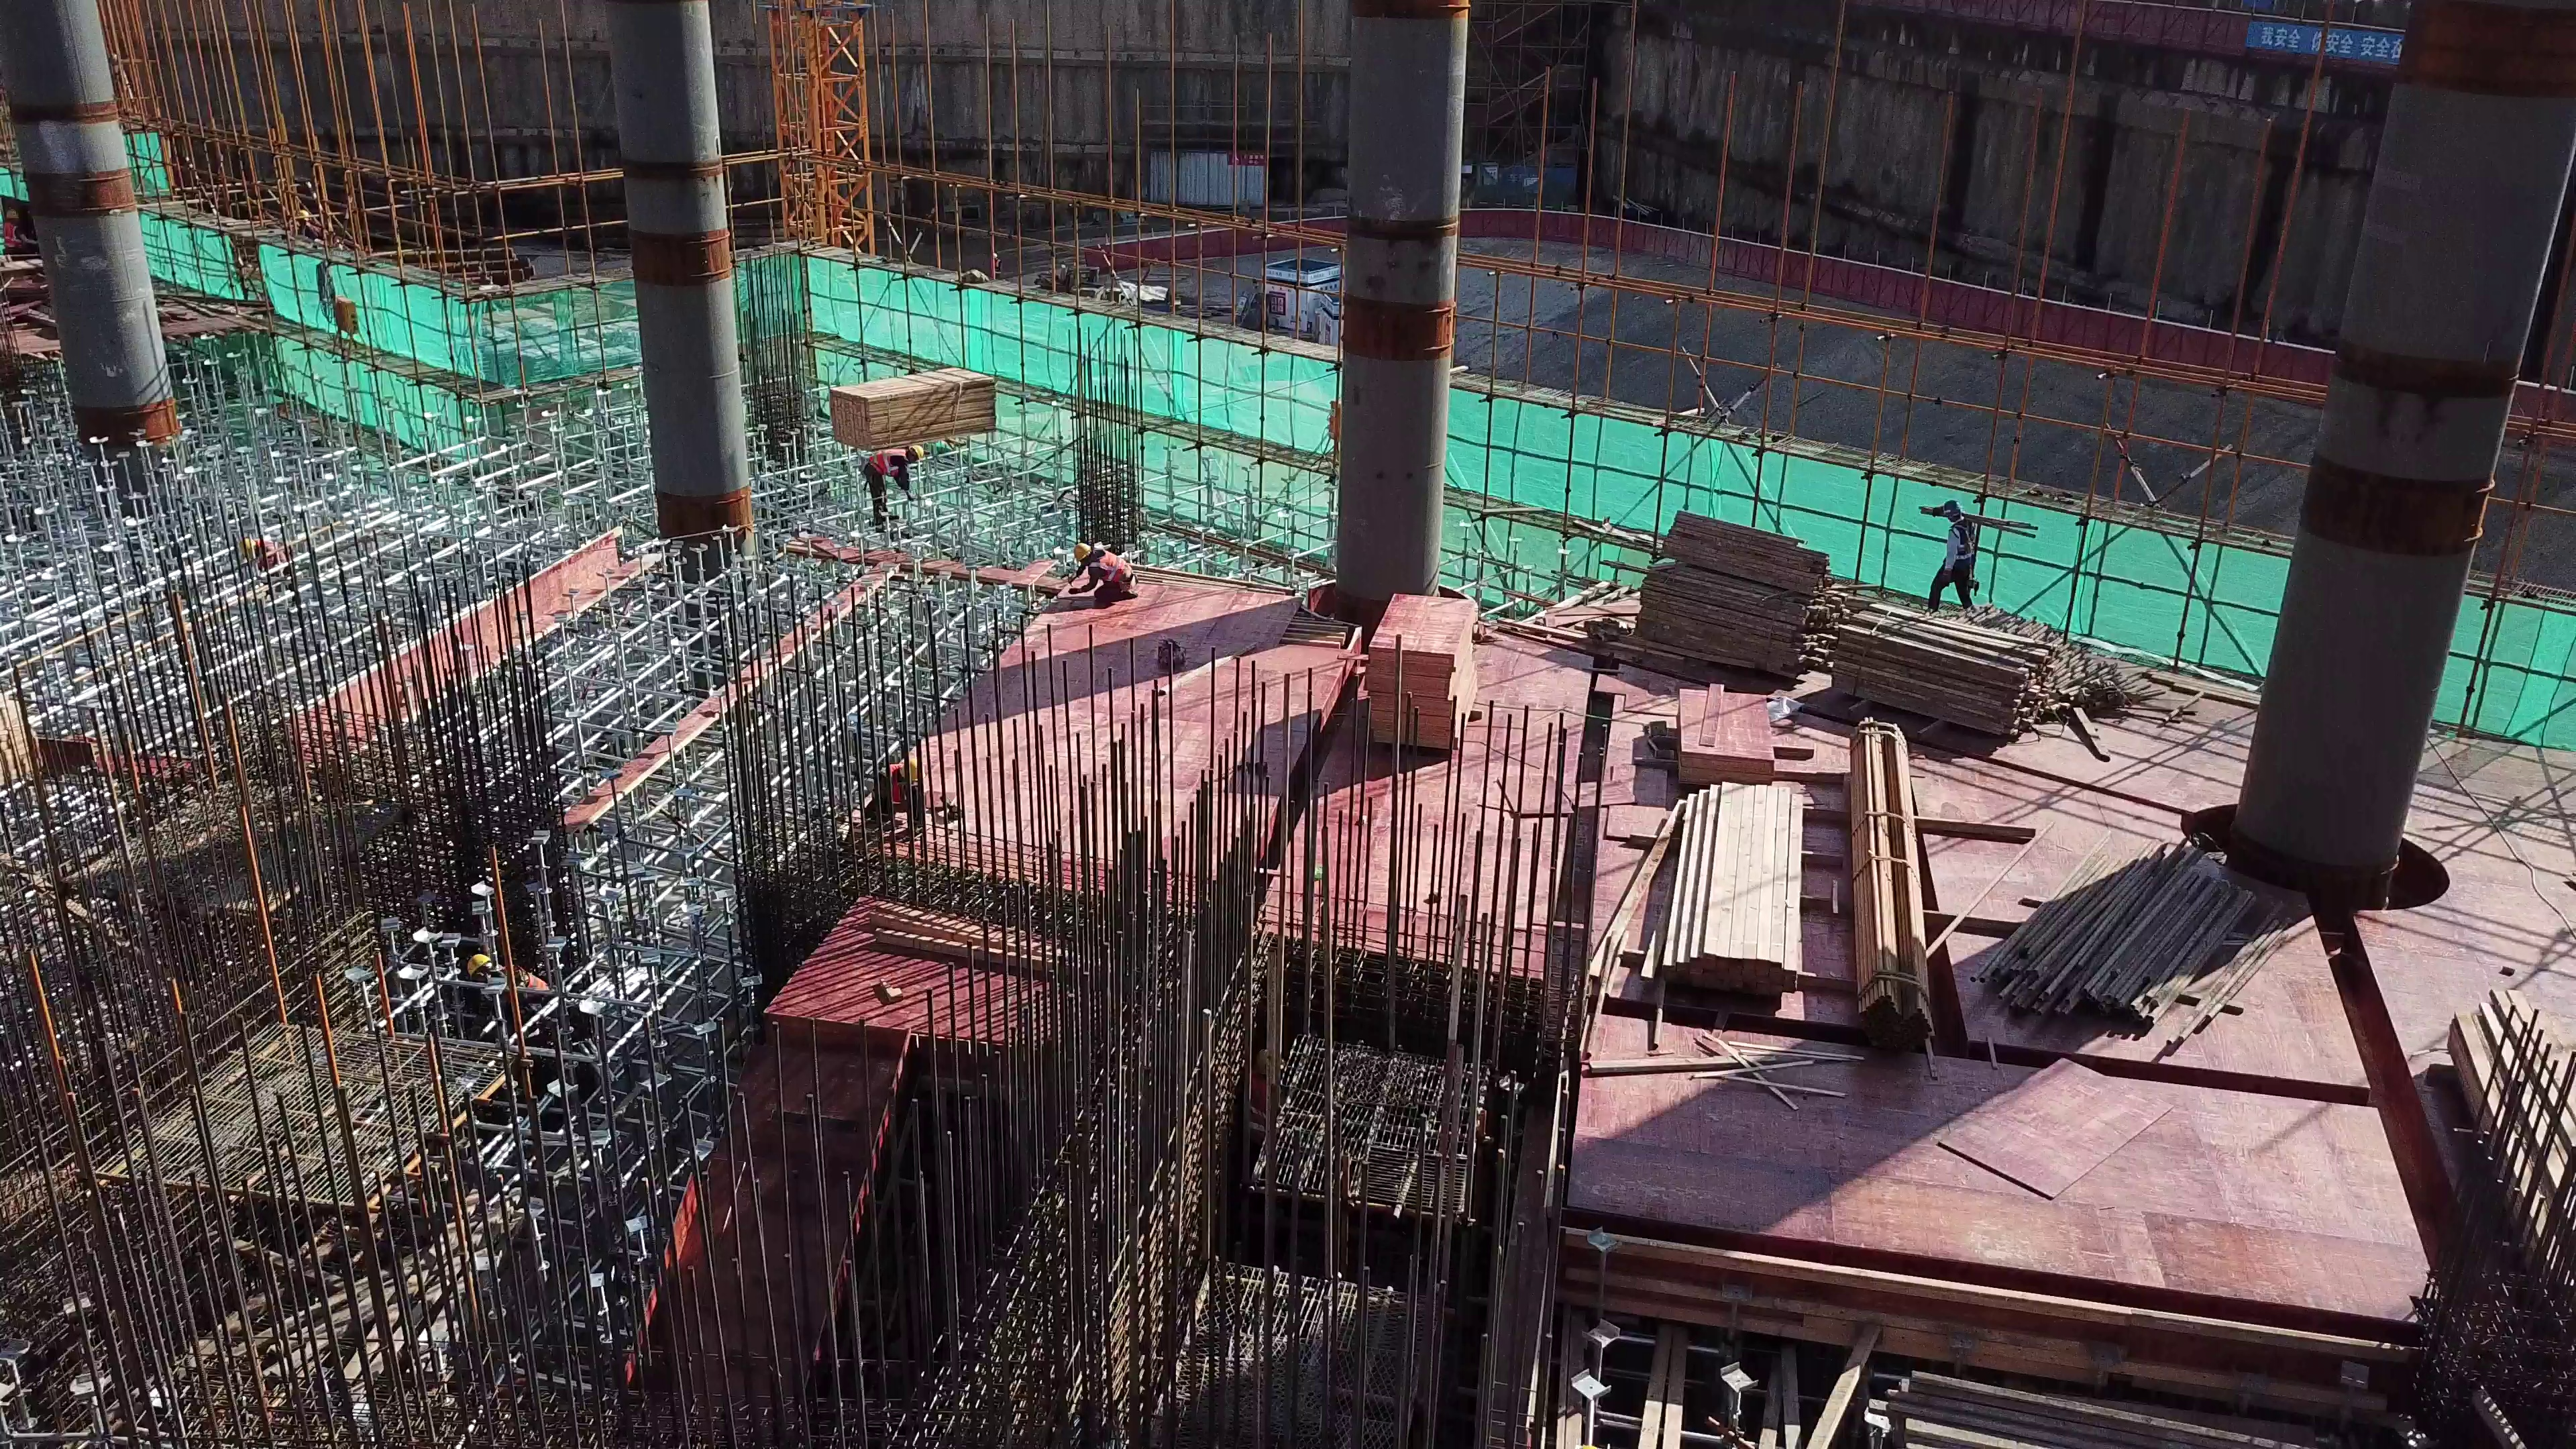board: (1368, 590, 1480, 759), (1674, 681, 1780, 790)
ebox: (327, 293, 367, 354)
helmet: (466, 951, 493, 974), (900, 757, 923, 781), (910, 443, 928, 462), (1072, 539, 1087, 560), (1945, 501, 1963, 516), (240, 539, 256, 553)
person: (467, 948, 588, 1030), (858, 752, 953, 838), (849, 445, 945, 517), (1069, 527, 1143, 608), (1939, 500, 1978, 616), (240, 536, 304, 590), (1, 207, 38, 258), (294, 203, 329, 243)
slogan: (2263, 25, 2406, 68)
vest: (1087, 545, 1138, 596), (494, 963, 551, 1005), (1945, 519, 1976, 576), (861, 445, 906, 481), (870, 765, 905, 810), (255, 540, 294, 558)
wood: (1615, 773, 1816, 998), (1840, 594, 2101, 735), (1637, 510, 1840, 672), (832, 365, 1011, 437)
